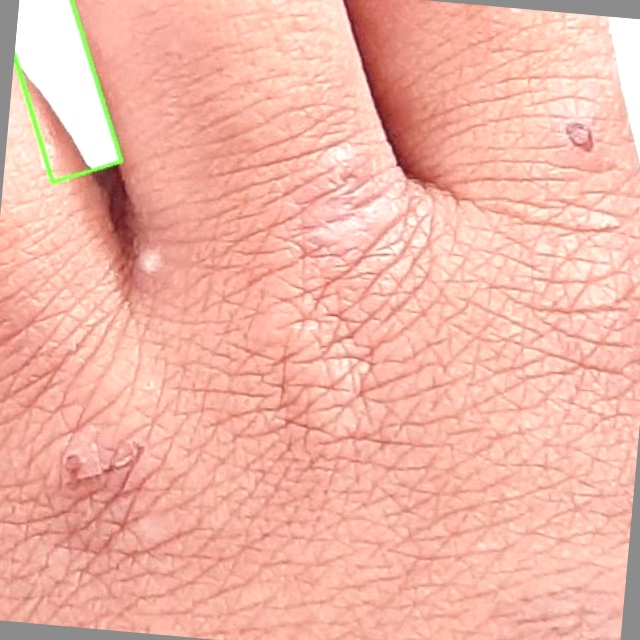Scabies: (15, 0, 122, 183)
